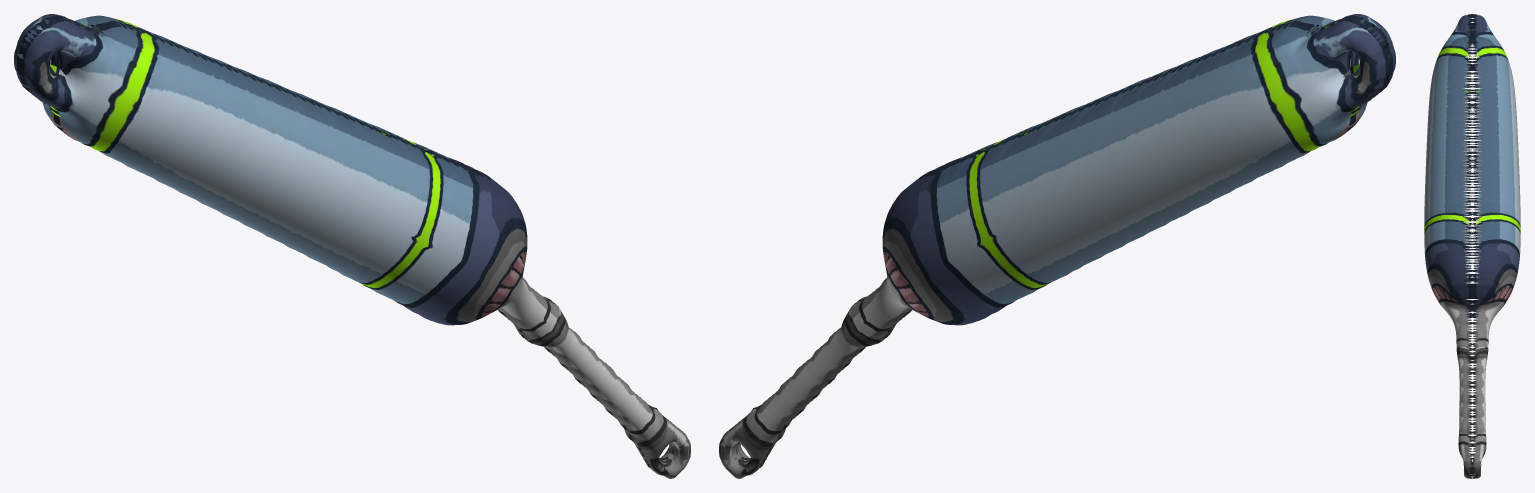
The model's file is hydraulic_ram.glb.
3 views of the same model, side by side, from view 1: azimuth 30°, elevation 25°; view 2: azimuth 150°, elevation 25°; view 3: azimuth 270°, elevation 25° (orthographic). The views are drawn at different scales.
Visible parts, largest first — view 1: hydraulic_ram; view 2: hydraulic_ram; view 3: hydraulic_ram.
Part boxes in pixels (x1,y1,x2,y2): hydraulic_ram: [14, 14, 690, 478]; hydraulic_ram: [719, 14, 1395, 478]; hydraulic_ram: [1424, 14, 1520, 478].
Bounding box in the file's own units: 0.989 × 0.8579 × 0.2425.
Materials: 1 (1 with a texture image).
